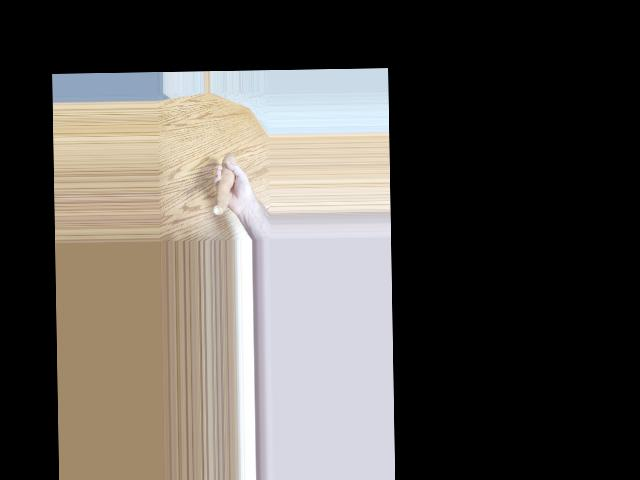sweet_potato: (214, 159, 240, 220)
